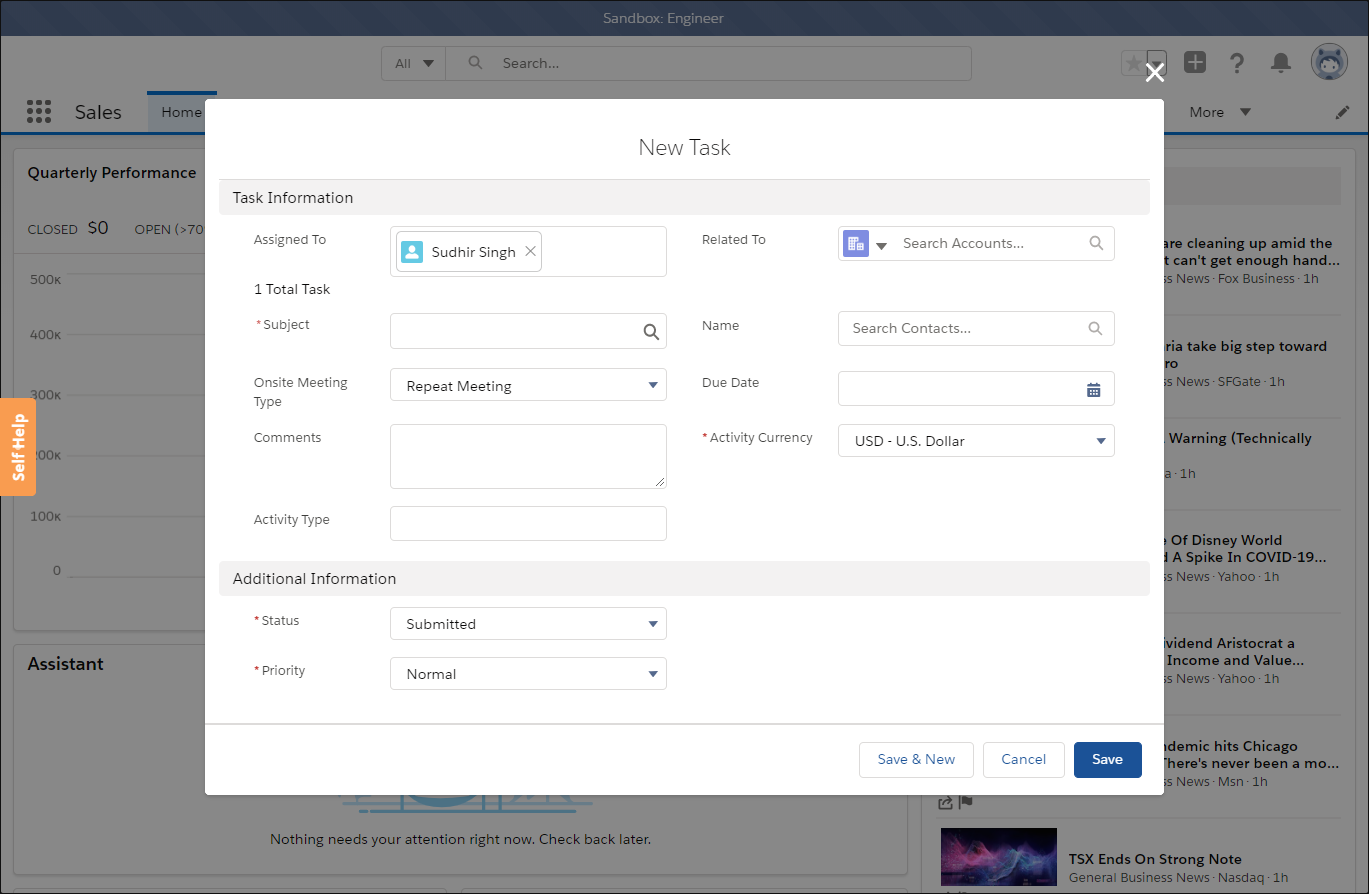ACTIVE_WINDOW: (205, 100, 1165, 795)
BUTTON: (858, 742, 974, 777), (982, 741, 1064, 777), (1073, 741, 1141, 778)
COMBOBOX: (389, 656, 667, 690), (837, 423, 1114, 456), (389, 368, 666, 401), (389, 606, 666, 639), (382, 46, 442, 79)
DROPDOWN_HANDLE: (1231, 89, 1269, 126), (633, 656, 667, 690), (1081, 423, 1114, 456), (633, 606, 666, 639), (416, 45, 445, 82), (634, 368, 666, 401)
IMAGEBUTTON: (1120, 43, 1168, 89), (14, 87, 59, 134), (1307, 41, 1352, 86), (1173, 43, 1216, 86), (1259, 42, 1300, 84), (1217, 43, 1257, 85), (1322, 91, 1360, 126)
NON_SEARCH_ICON: (1081, 375, 1107, 405)
NON_SEARCH_ICON_LEFT: (842, 224, 872, 258)
SEARCHBOX: (443, 45, 972, 81), (837, 310, 1115, 346), (389, 313, 667, 349), (837, 371, 1114, 406)
SEARCHBOX_COMBO: (837, 225, 1115, 260)
SEARCH_ICON: (631, 313, 667, 349), (1080, 314, 1110, 343), (1081, 228, 1111, 257)
SEARCH_ICON_LEFT: (462, 45, 489, 76)
TEXTBOX: (389, 423, 666, 485), (389, 505, 666, 540)
